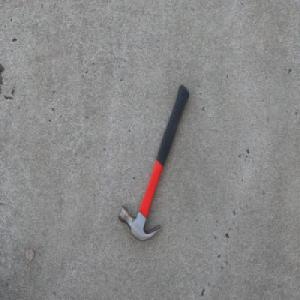Hammer: (118, 83, 189, 241)
